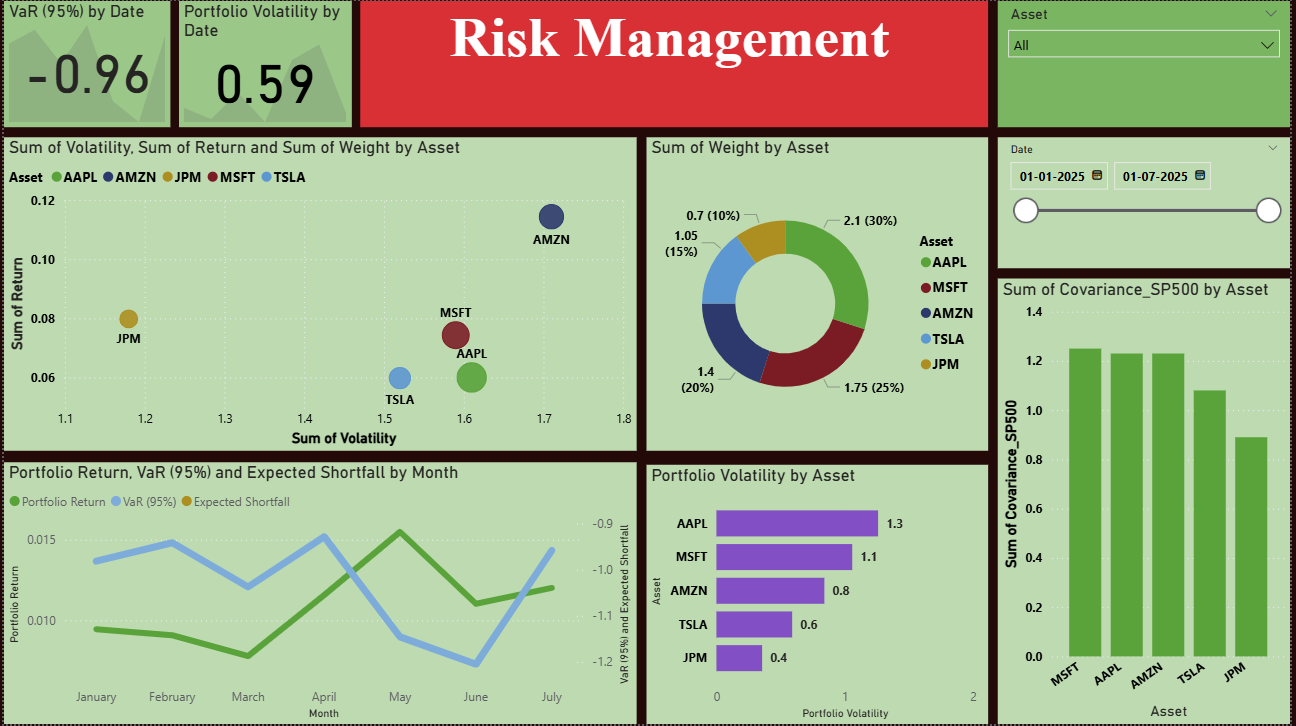

This screenshot's page, from the dashboard's own definition file:
{"tool":"powerbi","page":{"name":"Risk Management Dashboard","canvas":[1280,720],"ordinal":6},"visuals":[{"type":"lineChart","fields":{"Category":["Risk_Management_Portfolio_Data.Date.Variation.Date Hierarchy.Month"],"Y":["Risk_Management_Portfolio_Data.Portfolio Return"],"Y2":["Risk_Management_Portfolio_Data.VaR (95%)","Risk_Management_Portfolio_Data.Expected Shortfall"]},"box":[0,458.8,629.5,261.6],"z":0},{"type":"clusteredBarChart","fields":{"Category":["Risk_Management_Portfolio_Data.Asset"],"Y":["Risk_Management_Portfolio_Data.Portfolio Volatility"]},"box":[639.4,461.5,339.6,258.7],"z":1000},{"type":"donutChart","fields":{"Category":["Risk_Management_Portfolio_Data.Asset"],"Y":["Sum(Risk_Management_Portfolio_Data.Weight)"]},"box":[639.4,135.6,339.6,312.2],"z":2000},{"type":"scatterChart","fields":{"X":["Sum(Risk_Management_Portfolio_Data.Volatility)"],"Y":["Sum(Risk_Management_Portfolio_Data.Return)"],"Series":["Risk_Management_Portfolio_Data.Asset"],"Size":["Sum(Risk_Management_Portfolio_Data.Weight)"]},"box":[0,135.6,629.4,312.2],"z":3000},{"type":"kpi","fields":{"Indicator":["Risk_Management_Portfolio_Data.Portfolio Volatility"],"TrendLine":["Risk_Management_Portfolio_Data.Date"]},"box":[174.2,0,171.7,125.6],"z":4000},{"type":"kpi","fields":{"TrendLine":["Risk_Management_Portfolio_Data.Date"],"Indicator":["Risk_Management_Portfolio_Data.VaR (95%)"]},"box":[0,0,165.4,125.6],"z":5000},{"type":"clusteredColumnChart","fields":{"Category":["Risk_Management_Portfolio_Data.Asset"],"Y":["Sum(Risk_Management_Portfolio_Data.Covariance_SP500)"]},"box":[988.9,276.2,291.1,444.1],"z":6000},{"type":"slicer","fields":{"Values":["Risk_Management_Portfolio_Data.Date"]},"box":[988.9,135.6,291.1,129.4],"z":7000},{"type":"slicer","fields":{"Values":["Risk_Management_Portfolio_Data.Asset"]},"box":[988.9,0,291.1,125.6],"z":8000},{"type":"textbox","box":[354.5,0,624.5,125.6],"z":9000}]}

Visuals, with their boxes in screenshot pixels (x1, y1, x2, y2), scaled from the page's 1280x720 canvas onto the 1296x726 screenshot:
lineChart - Risk_Management_Portfolio_Data.Date.Variation.Date Hierarchy.Month x Risk_Management_Portfolio_Data.Portfolio Return: bbox=[0, 463, 637, 725]
clusteredBarChart - Risk_Management_Portfolio_Data.Asset x Risk_Management_Portfolio_Data.Portfolio Volatility: bbox=[647, 465, 991, 725]
donutChart - Risk_Management_Portfolio_Data.Asset x Sum(Risk_Management_Portfolio_Data.Weight): bbox=[647, 137, 991, 452]
scatterChart - Sum(Risk_Management_Portfolio_Data.Volatility) x Sum(Risk_Management_Portfolio_Data.Return): bbox=[0, 137, 637, 452]
kpi - Risk_Management_Portfolio_Data.Portfolio Volatility x Risk_Management_Portfolio_Data.Date: bbox=[176, 0, 350, 127]
kpi - Risk_Management_Portfolio_Data.Date x Risk_Management_Portfolio_Data.VaR (95%): bbox=[0, 0, 167, 127]
clusteredColumnChart - Risk_Management_Portfolio_Data.Asset x Sum(Risk_Management_Portfolio_Data.Covariance_SP500): bbox=[1001, 279, 1295, 725]
slicer - Risk_Management_Portfolio_Data.Date: bbox=[1001, 137, 1295, 267]
slicer - Risk_Management_Portfolio_Data.Asset: bbox=[1001, 0, 1295, 127]
textbox: bbox=[359, 0, 991, 127]
